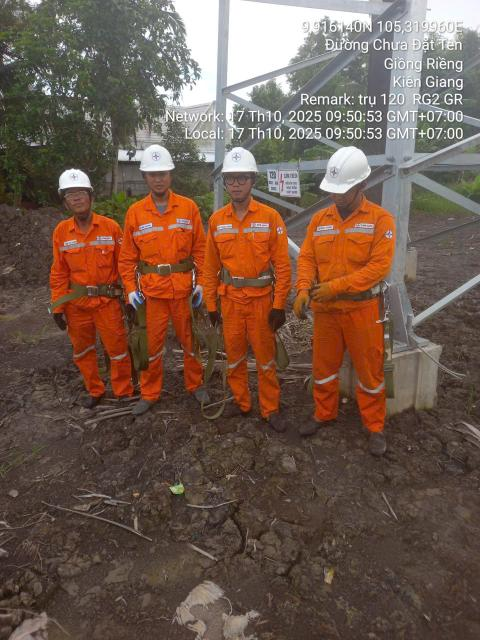gloves: (305, 280, 334, 307), (121, 288, 152, 308), (266, 306, 287, 332), (292, 292, 314, 316), (53, 309, 72, 332), (118, 302, 139, 322), (205, 309, 221, 328), (189, 285, 202, 308)
harness: (125, 251, 198, 282), (63, 278, 133, 306), (318, 279, 389, 306), (213, 267, 272, 290)
helmet: (319, 143, 370, 198), (45, 163, 106, 201), (214, 140, 260, 184), (134, 140, 179, 183)
shoes: (291, 410, 331, 435), (216, 393, 247, 421), (258, 411, 293, 435), (77, 390, 113, 412), (185, 382, 215, 407), (128, 389, 157, 414), (368, 428, 388, 459), (110, 390, 137, 412)
